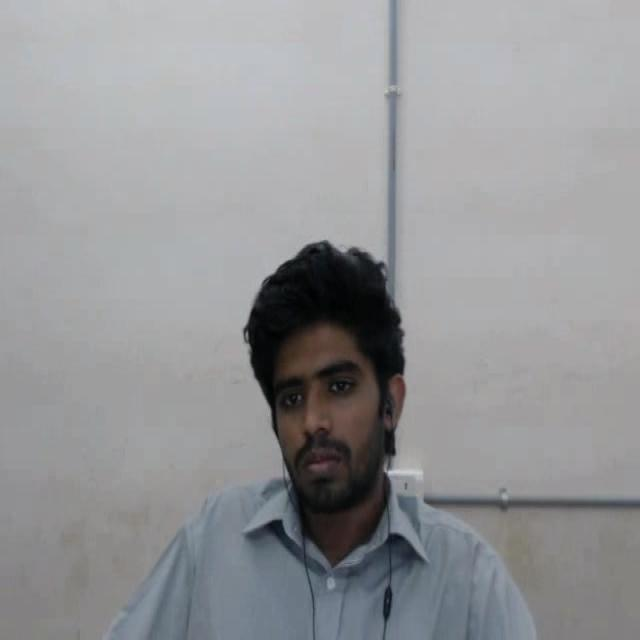Engaged: (240, 222, 421, 551)
